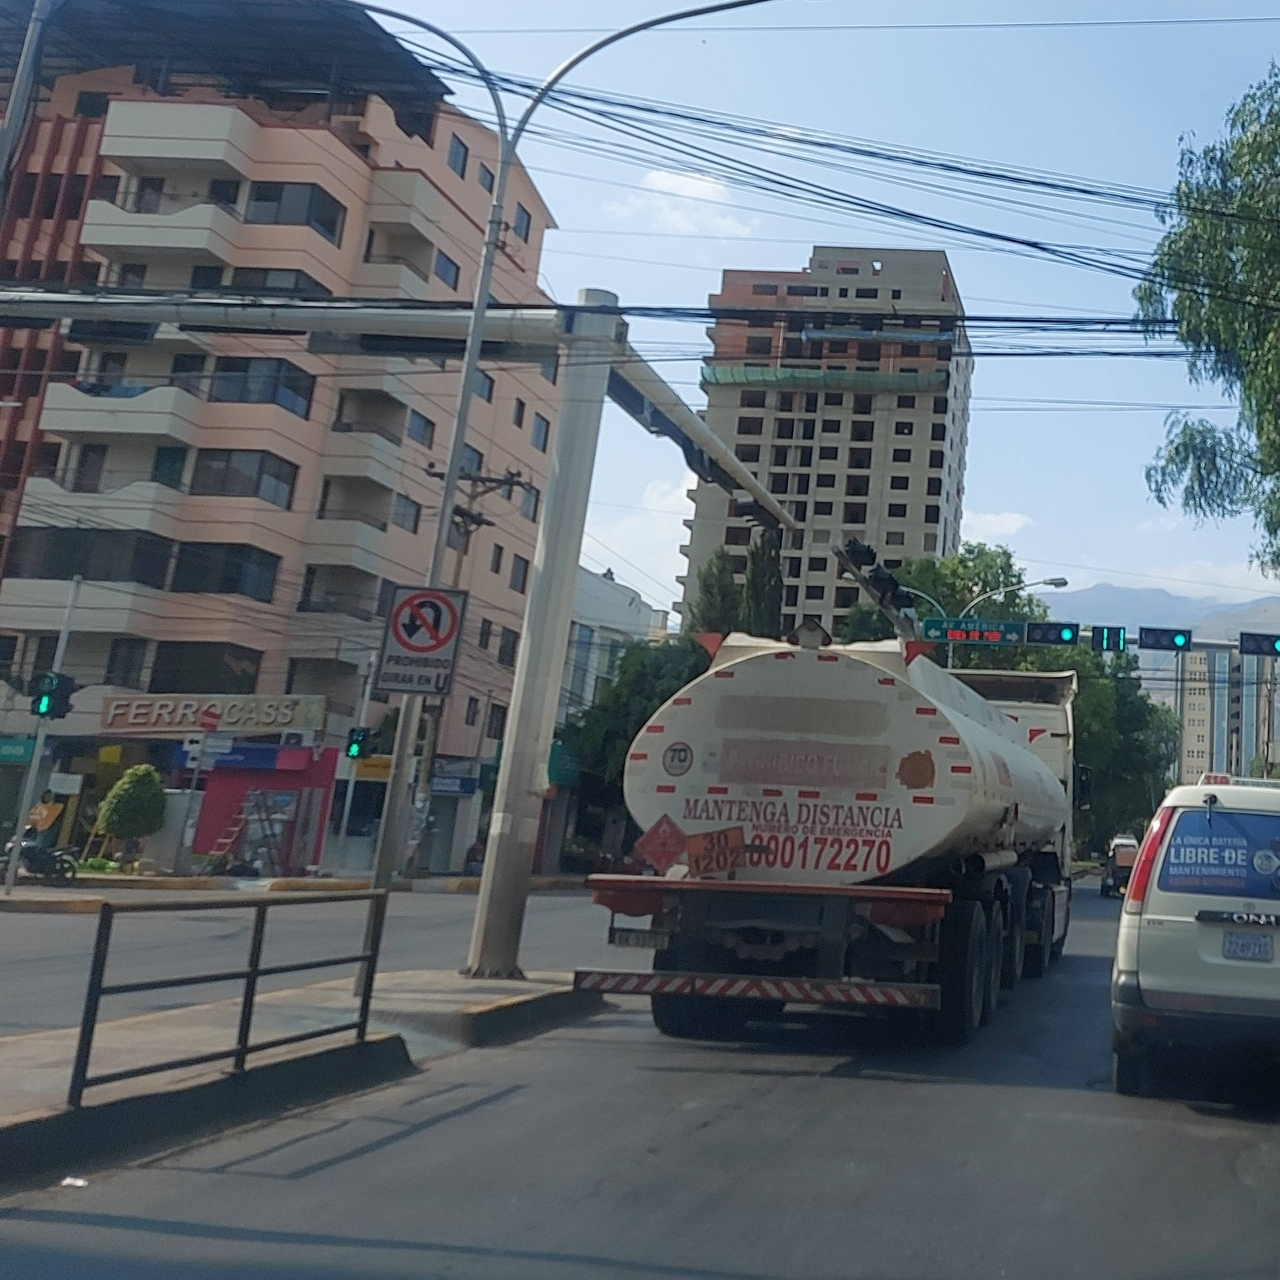prohibido-girar-u: (376, 585, 459, 700)
